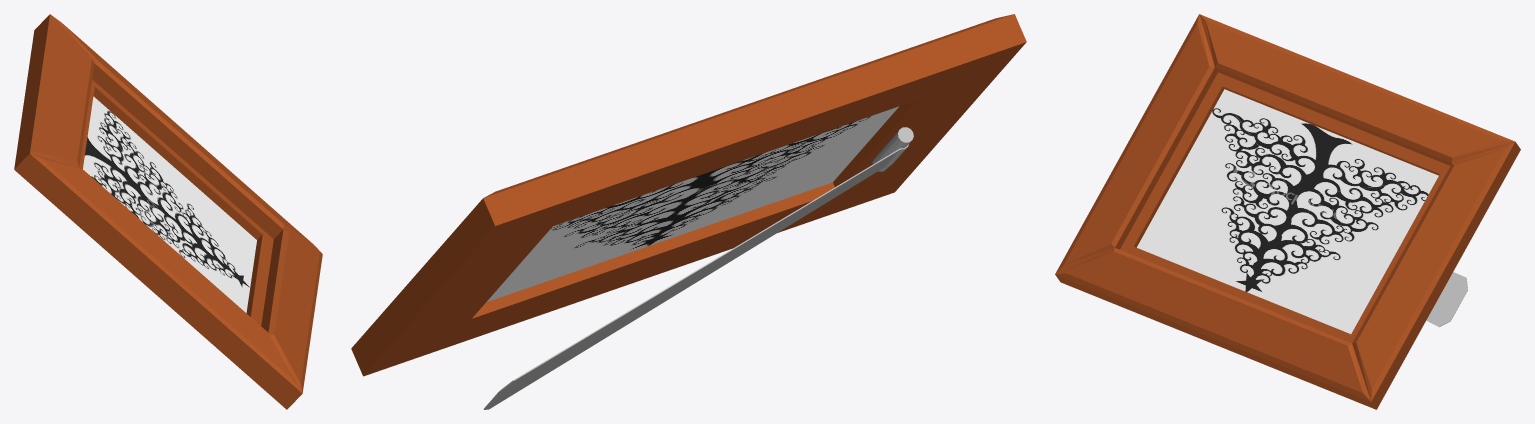
File: photoFrame.obj
3 views of the same model, side by side, from view 1: azimuth 30°, elevation 25°; view 2: azimuth 150°, elevation 25°; view 3: azimuth 270°, elevation 25° (orthographic). The views are drawn at different scales.
Parts seen in each view (by area): view 1: ramka01, Shape01; view 2: ramka01, Shape01; view 3: ramka01, Shape01.
Part boxes in pixels (x1,y1,x2,y2): ramka01: (14,14,322,409); Shape01: (83,96,256,312); ramka01: (351,14,1026,409); Shape01: (486,106,898,302); ramka01: (1055,14,1520,409); Shape01: (1137,89,1438,333).
Size of the model in its own units: 2.25 by 1.52 by 2.67.
Materials: 3 (1 with a texture image).
